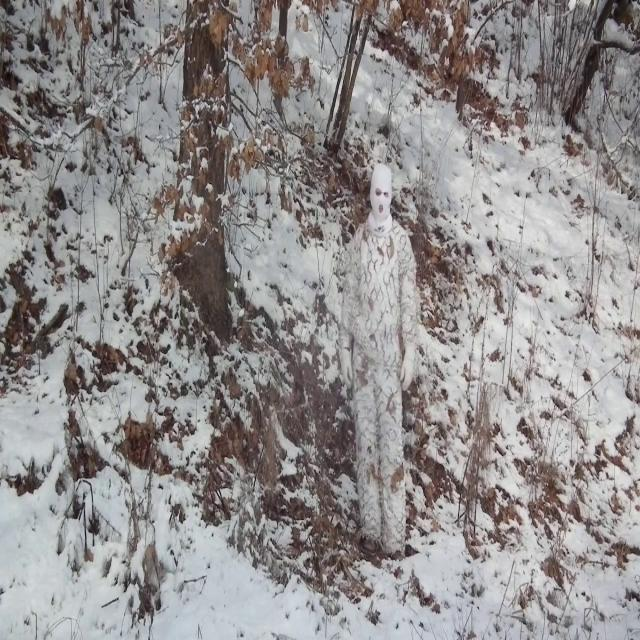Camouflage: (339, 162, 419, 557)
